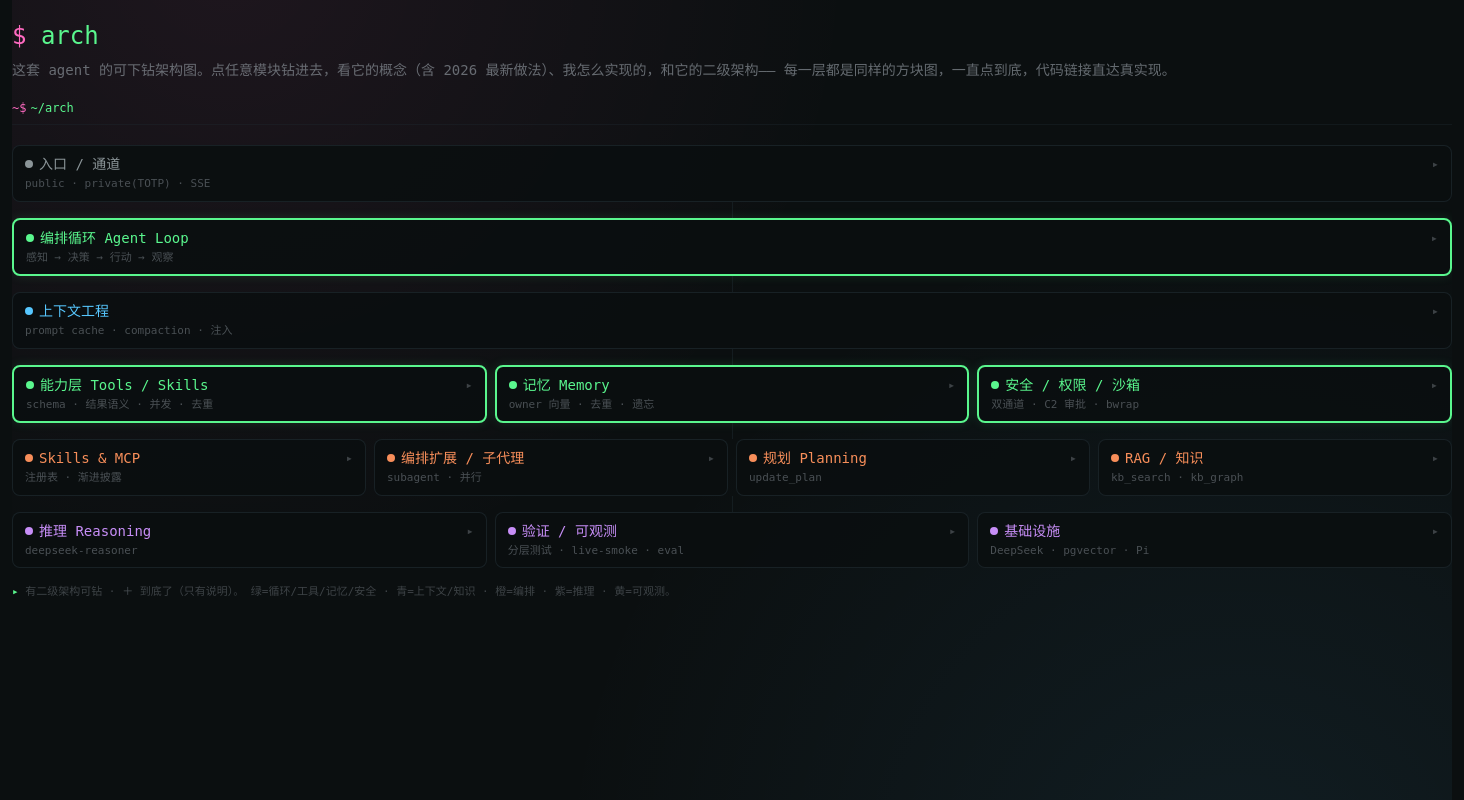
Test: Arch 架构解剖器（原地下钻） › 点二级方块 → 继续下钻，面包屑增长、内容替换
Click the text "记忆 Memory" at (566, 384), box [523,376,610,392]
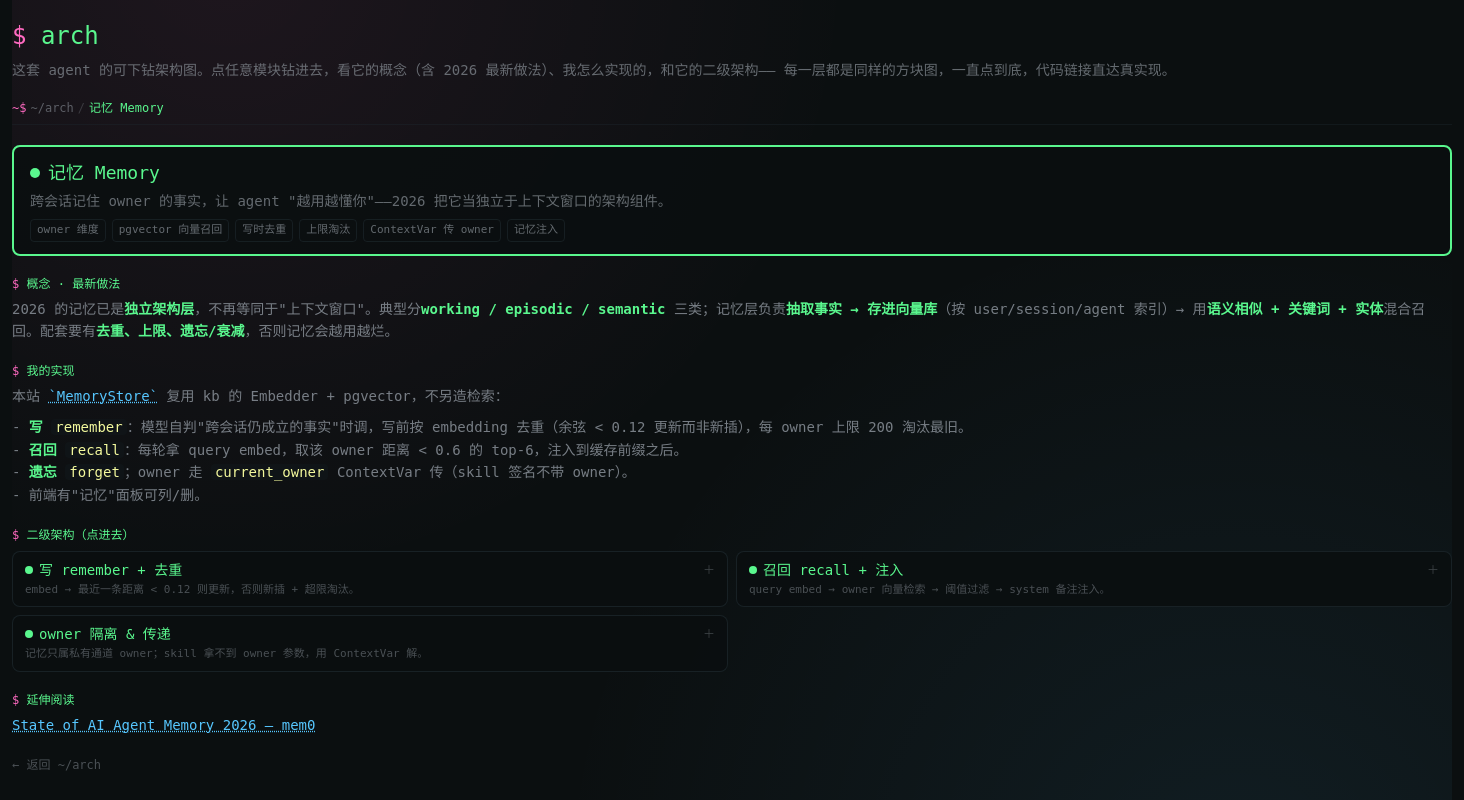
expect the text "召回 recall + 注入" is shown: met
Click the text "召回 recall + 注入" at (833, 570), box [763,562,903,578]
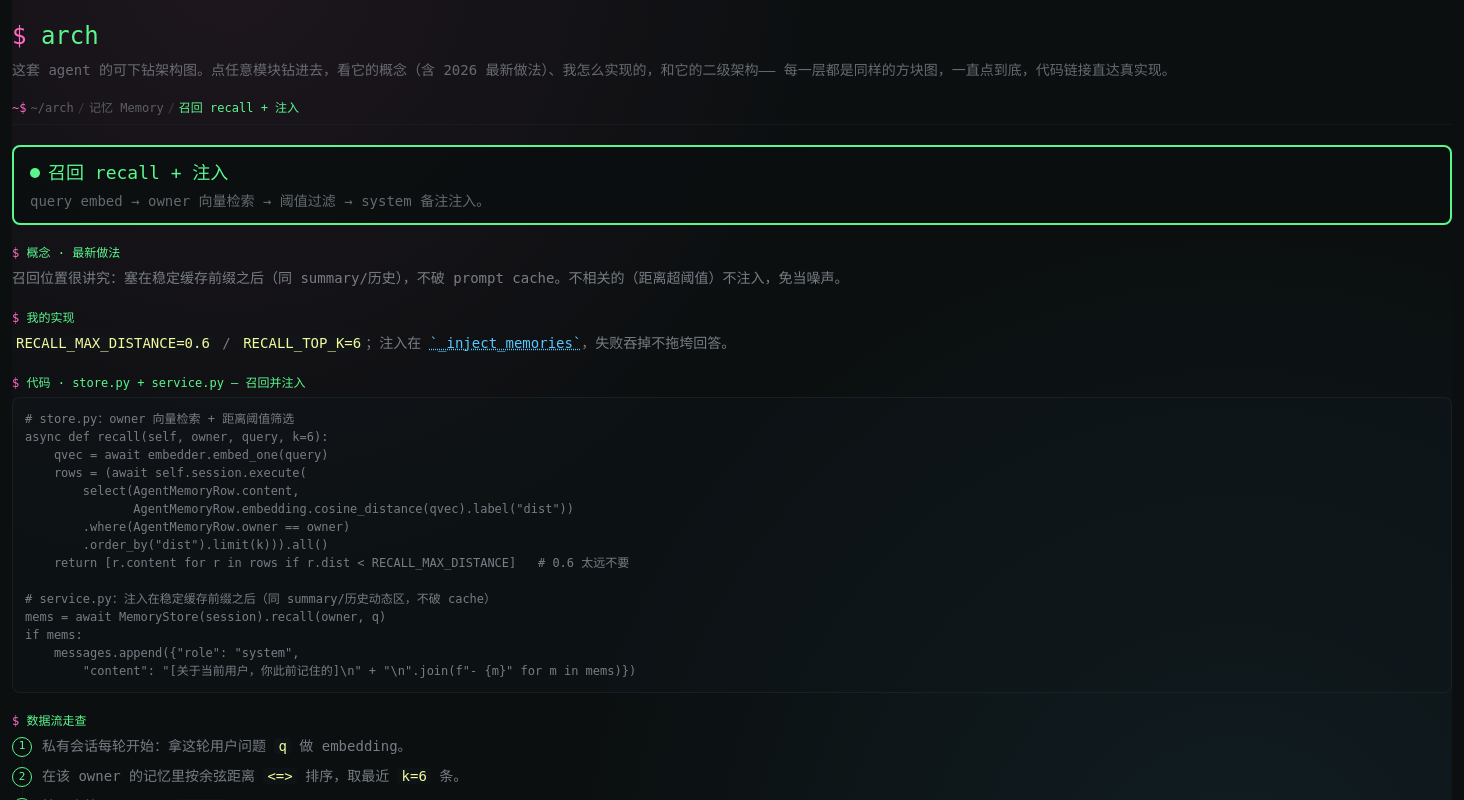
expect the text "RECALL_MAX_DISTANCE=0.6" is shown: met, box [12,335,214,351]
expect the text "越用越懂你" is gone: met
